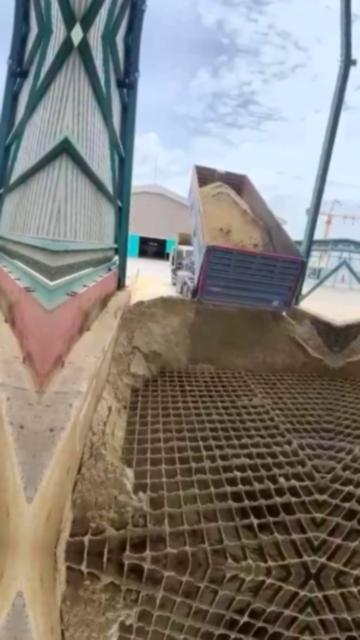sand: (73, 297, 332, 535), (200, 182, 272, 252), (289, 318, 336, 366)
